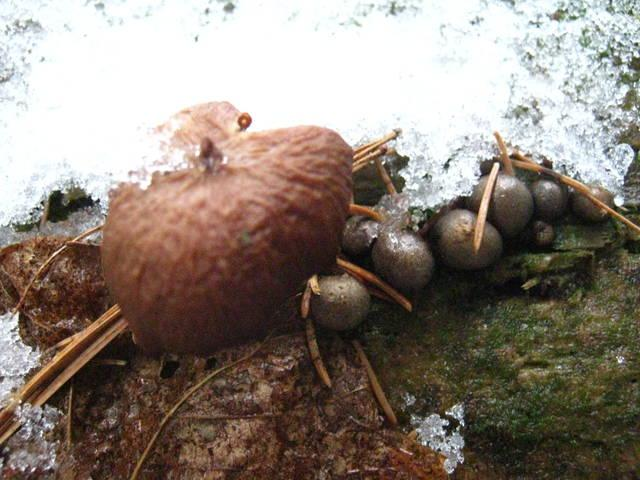poisonous_mushroom: (98, 106, 356, 356), (370, 225, 435, 294), (432, 207, 503, 270), (467, 170, 534, 236), (305, 271, 371, 332), (570, 183, 614, 222), (530, 177, 568, 219)
